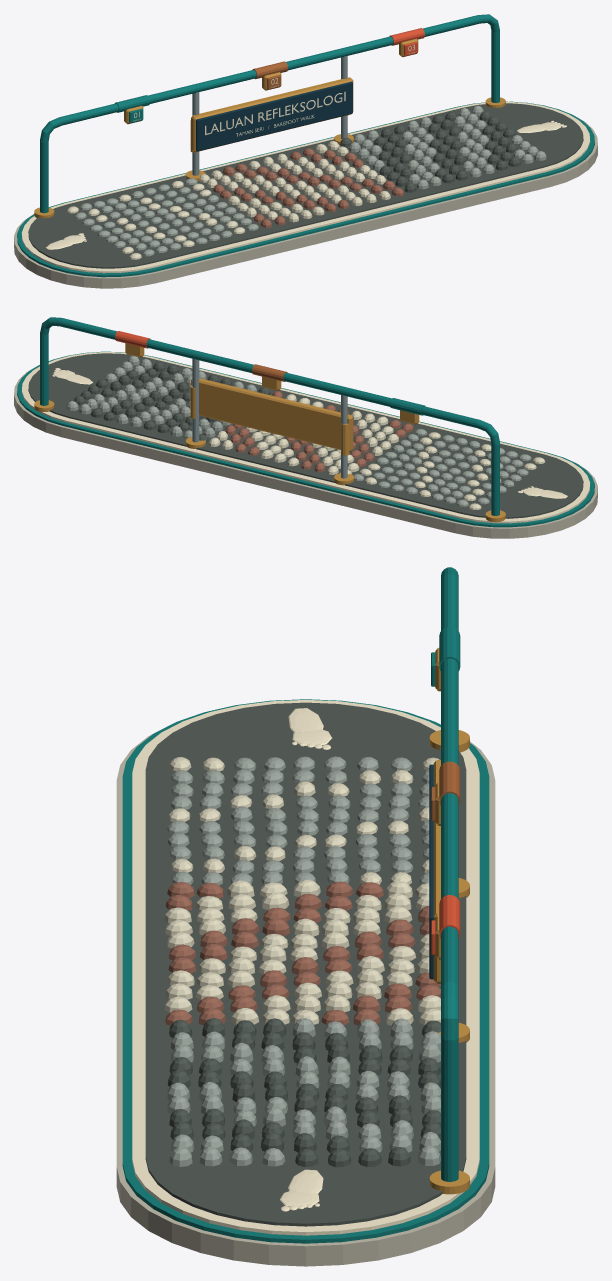
The picture shows the model from 3 angles, top to bottom: view 1: azimuth 30°, elevation 25°; view 2: azimuth 150°, elevation 25°; view 3: azimuth 270°, elevation 25°; orthographic projection. The views are drawn at different scales.
Visible parts, largest first — view 1: Terrazzo Ribbon, Massage Stone Fields, Continuous Balance Rail, Park Nameplate, Difficulty Medallions, Barefoot Entry Inlays; view 2: Terrazzo Ribbon, Massage Stone Fields, Continuous Balance Rail, Park Nameplate, Barefoot Entry Inlays, Difficulty Medallions; view 3: Terrazzo Ribbon, Massage Stone Fields, Continuous Balance Rail, Barefoot Entry Inlays, Park Nameplate, Difficulty Medallions.
Part boxes in pixels (left/top/right/bottom): Terrazzo Ribbon: left=14, top=101, right=597, bottom=288; Massage Stone Fields: left=67, top=105, right=546, bottom=259; Continuous Balance Rail: left=34, top=14, right=505, bottom=218; Park Nameplate: left=191, top=77, right=353, bottom=152; Difficulty Medallions: left=124, top=38, right=418, bottom=124; Barefoot Entry Inlays: left=46, top=120, right=566, bottom=249; Terrazzo Ribbon: left=14, top=351, right=597, bottom=538; Massage Stone Fields: left=66, top=355, right=545, bottom=509; Continuous Balance Rail: left=34, top=317, right=505, bottom=522; Park Nameplate: left=191, top=378, right=353, bottom=451; Barefoot Entry Inlays: left=52, top=368, right=567, bottom=498; Difficulty Medallions: left=125, top=343, right=419, bottom=424; Terrazzo Ribbon: left=116, top=699, right=495, bottom=1266; Massage Stone Fields: left=164, top=756, right=440, bottom=1167; Continuous Balance Rail: left=429, top=567, right=469, bottom=1194; Barefoot Entry Inlays: left=280, top=708, right=331, bottom=1211; Park Nameplate: left=429, top=760, right=440, bottom=983; Difficulty Medallions: left=431, top=648, right=440, bottom=959.
Bounding box in the file's own units: 5.35 × 0.9929 × 1.57.
